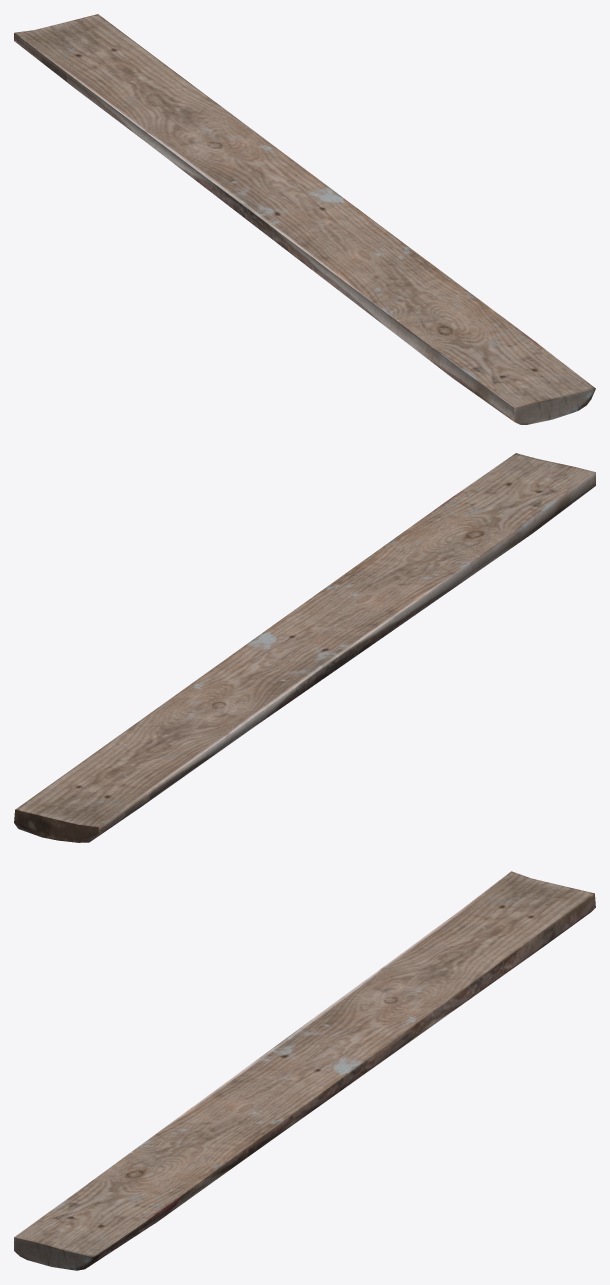
Rendered from sm_WoodPallet_01_08.fbx.
3 renders of one model, top to bottom at view 1: azimuth 30°, elevation 25°; view 2: azimuth 150°, elevation 25°; view 3: azimuth 330°, elevation 25°, orthographic. The views are drawn at different scales.
Parts seen in each view (by area): view 1: sm_WoodPallet_01_08_LOD0; view 2: sm_WoodPallet_01_08_LOD0; view 3: sm_WoodPallet_01_08_LOD0.
Boxes of the visible parts, x1=… form: sm_WoodPallet_01_08_LOD0: x1=14, y1=14, x2=595, y2=424; sm_WoodPallet_01_08_LOD0: x1=14, y1=453, x2=595, y2=842; sm_WoodPallet_01_08_LOD0: x1=14, y1=871, x2=595, y2=1270.
Size of the model in its own units: 119 by 12.23 by 3.51.
